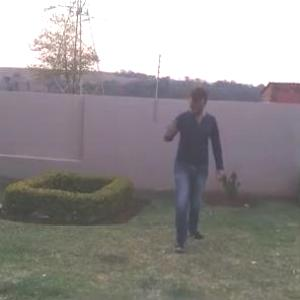takeoff-hand: (157, 114, 183, 148)
